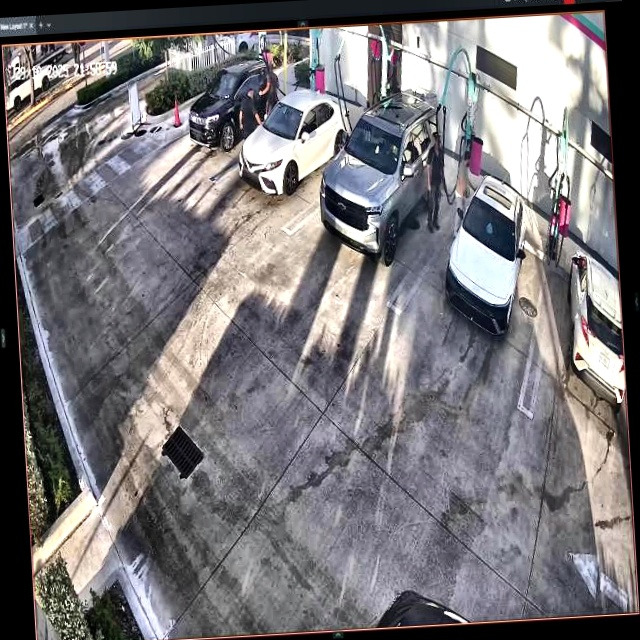Car: (316, 92, 441, 265), (441, 177, 532, 339), (238, 87, 354, 195), (186, 58, 273, 150)
